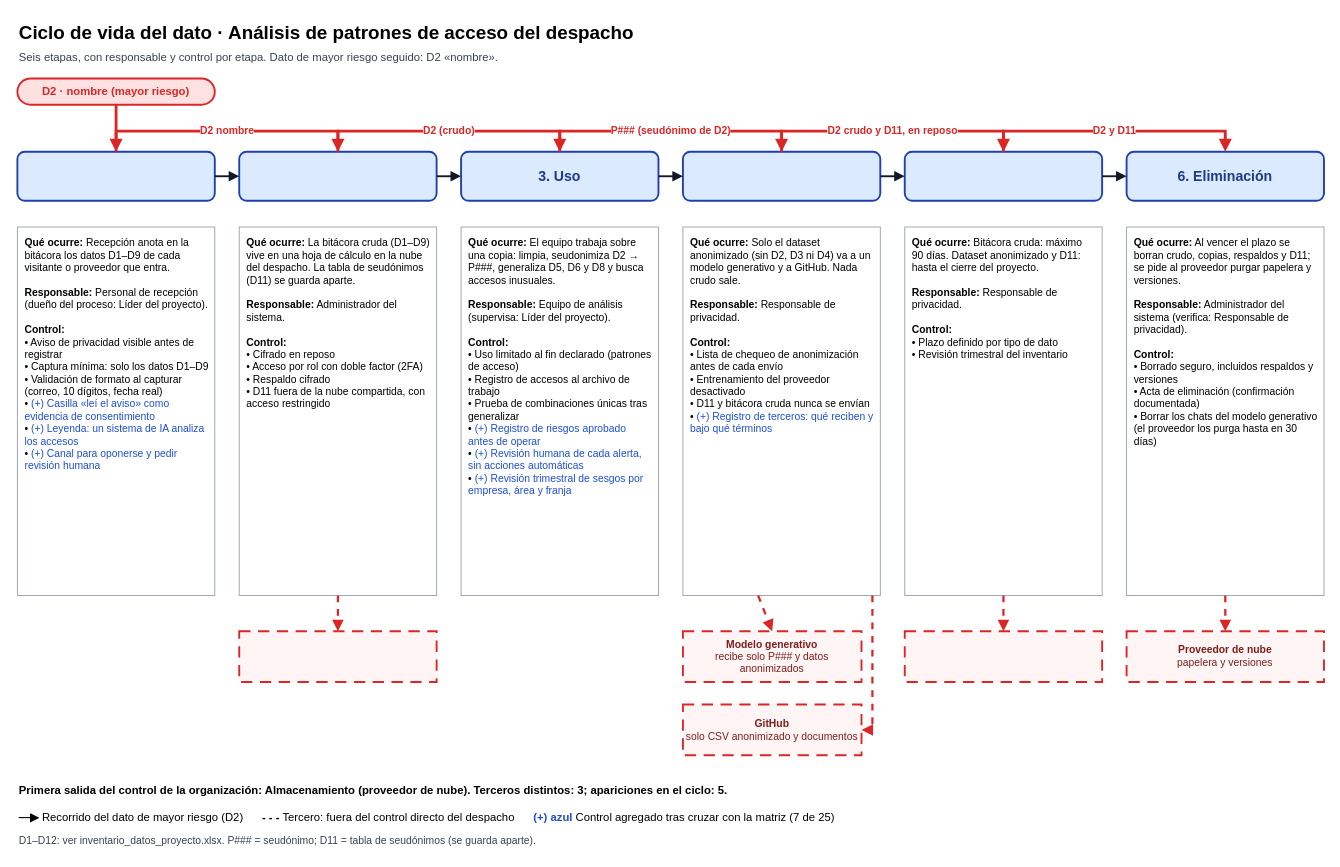
The diagram is 1340 pixels wide and 867 high, and some of its shapes have lost their labels. Here are the shapes that lost their labels. From the top down, the centre of each, then its label:
At (x=115, y=175): "1. Captura".
At (x=337, y=175): "2. Almacenamiento".
At (x=781, y=175): "4. Compartición".
At (x=1003, y=175): "5. Retención".
At (x=337, y=656): "Proveedor de nube hoja de cálculo: recibe D1–D9 en reposo".
At (x=1003, y=656): "Proveedor de nube guarda los respaldos".
